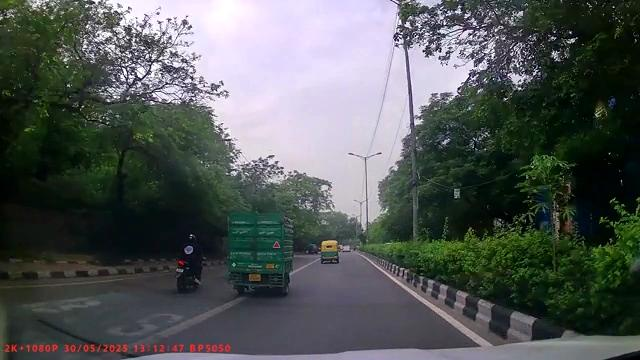motorcycle_with_helmet: (174, 232, 206, 293)
